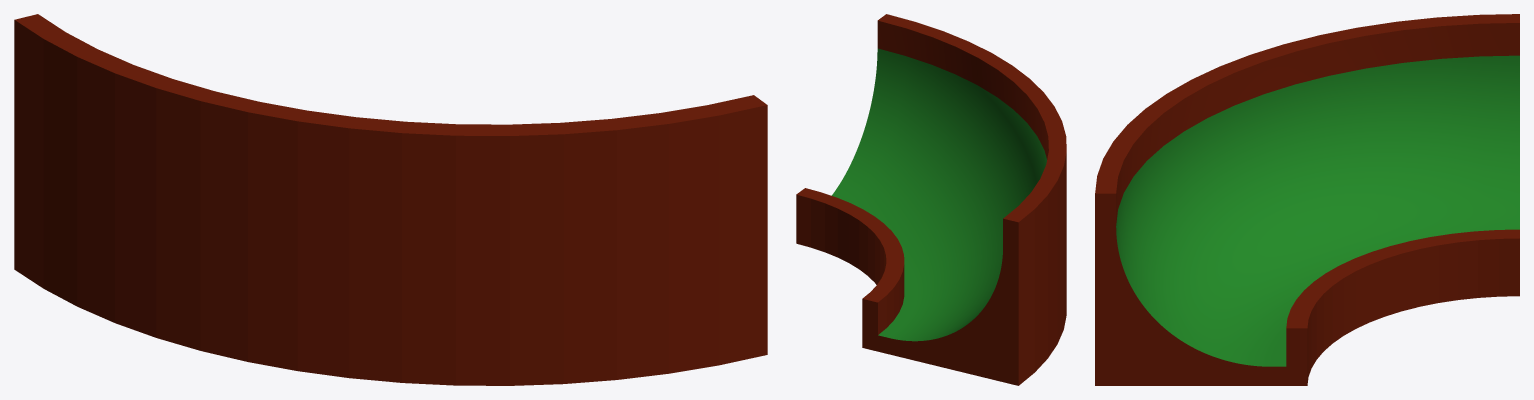
Rendered from BankedCornerLarge.obj.
3 renders of one model, left to right at view 1: azimuth 30°, elevation 25°; view 2: azimuth 150°, elevation 25°; view 3: azimuth 270°, elevation 25°, orthographic. The views are drawn at different scales.
Visible parts, largest first — view 1: BankedCornerLarge; view 2: BankedCornerLarge; view 3: BankedCornerLarge.
Boxes of the visible parts, <box> form: BankedCornerLarge: <box>14,14,767,385</box>; BankedCornerLarge: <box>796,14,1066,385</box>; BankedCornerLarge: <box>1095,14,1519,385</box>.
Size of the model in its own units: 4 by 2 by 4.
